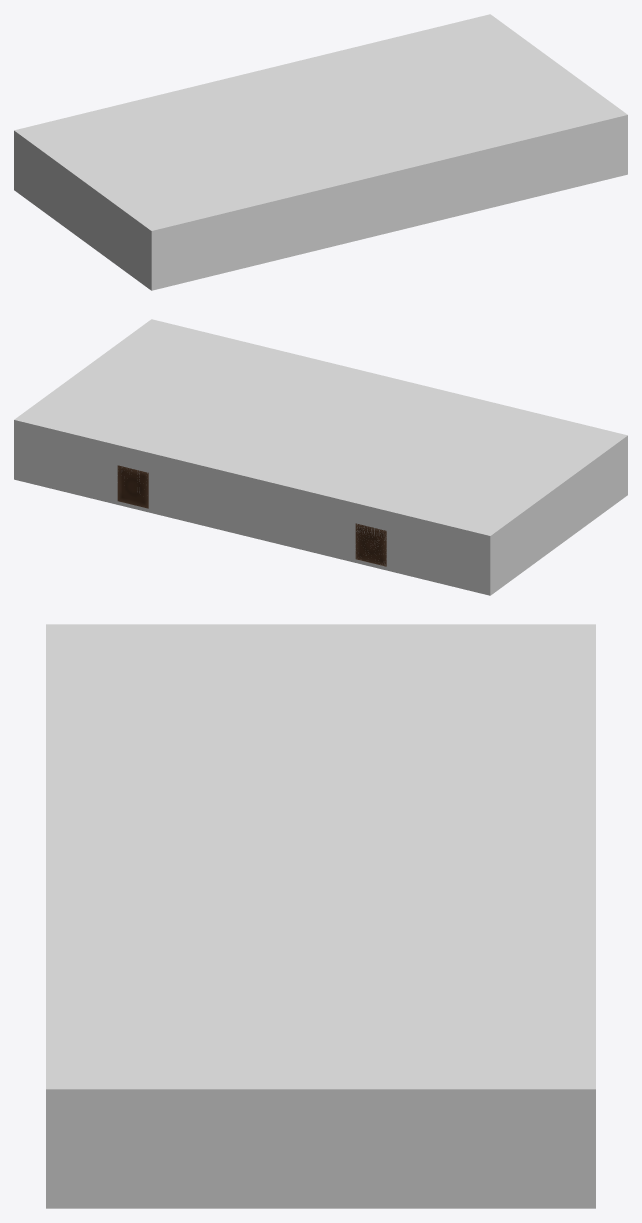
The model's file is house_floor_half.glb.
The picture shows the model from 3 angles, top to bottom: view 1: azimuth 30°, elevation 25°; view 2: azimuth 150°, elevation 25°; view 3: azimuth 270°, elevation 25°; orthographic projection. The views are drawn at different scales.
Visible parts, largest first — view 1: COL_house_floor_half_static_00; view 2: COL_house_floor_half_static_00, house_floor_half_static; view 3: COL_house_floor_half_static_00.
Boxes of the visible parts, <box> form: COL_house_floor_half_static_00: <box>14,14,627,290</box>; COL_house_floor_half_static_00: <box>14,319,627,595</box>; house_floor_half_static: <box>117,465,386,566</box>; COL_house_floor_half_static_00: <box>46,624,595,1208</box>.
Bounding box in the file's own units: 2 × 0.24 × 1.
Materials: 2 (2 with a texture image).
